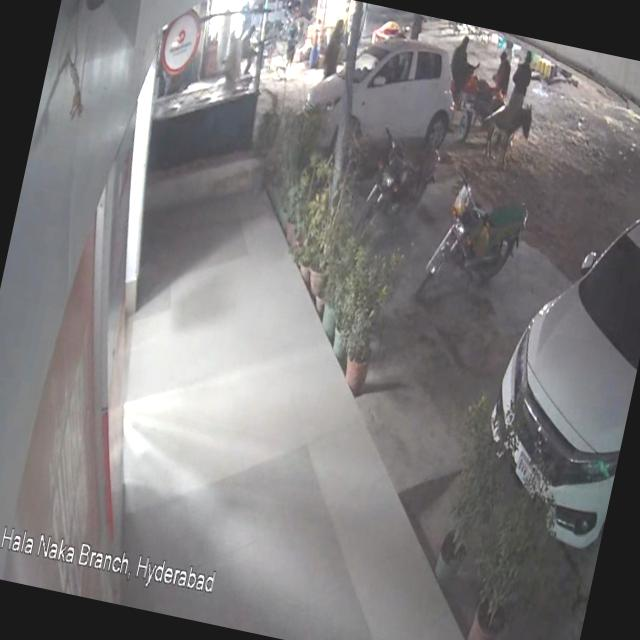Car: (462, 145, 640, 566), (277, 1, 473, 161)
Motorcycle: (408, 170, 548, 312), (358, 115, 448, 241)
